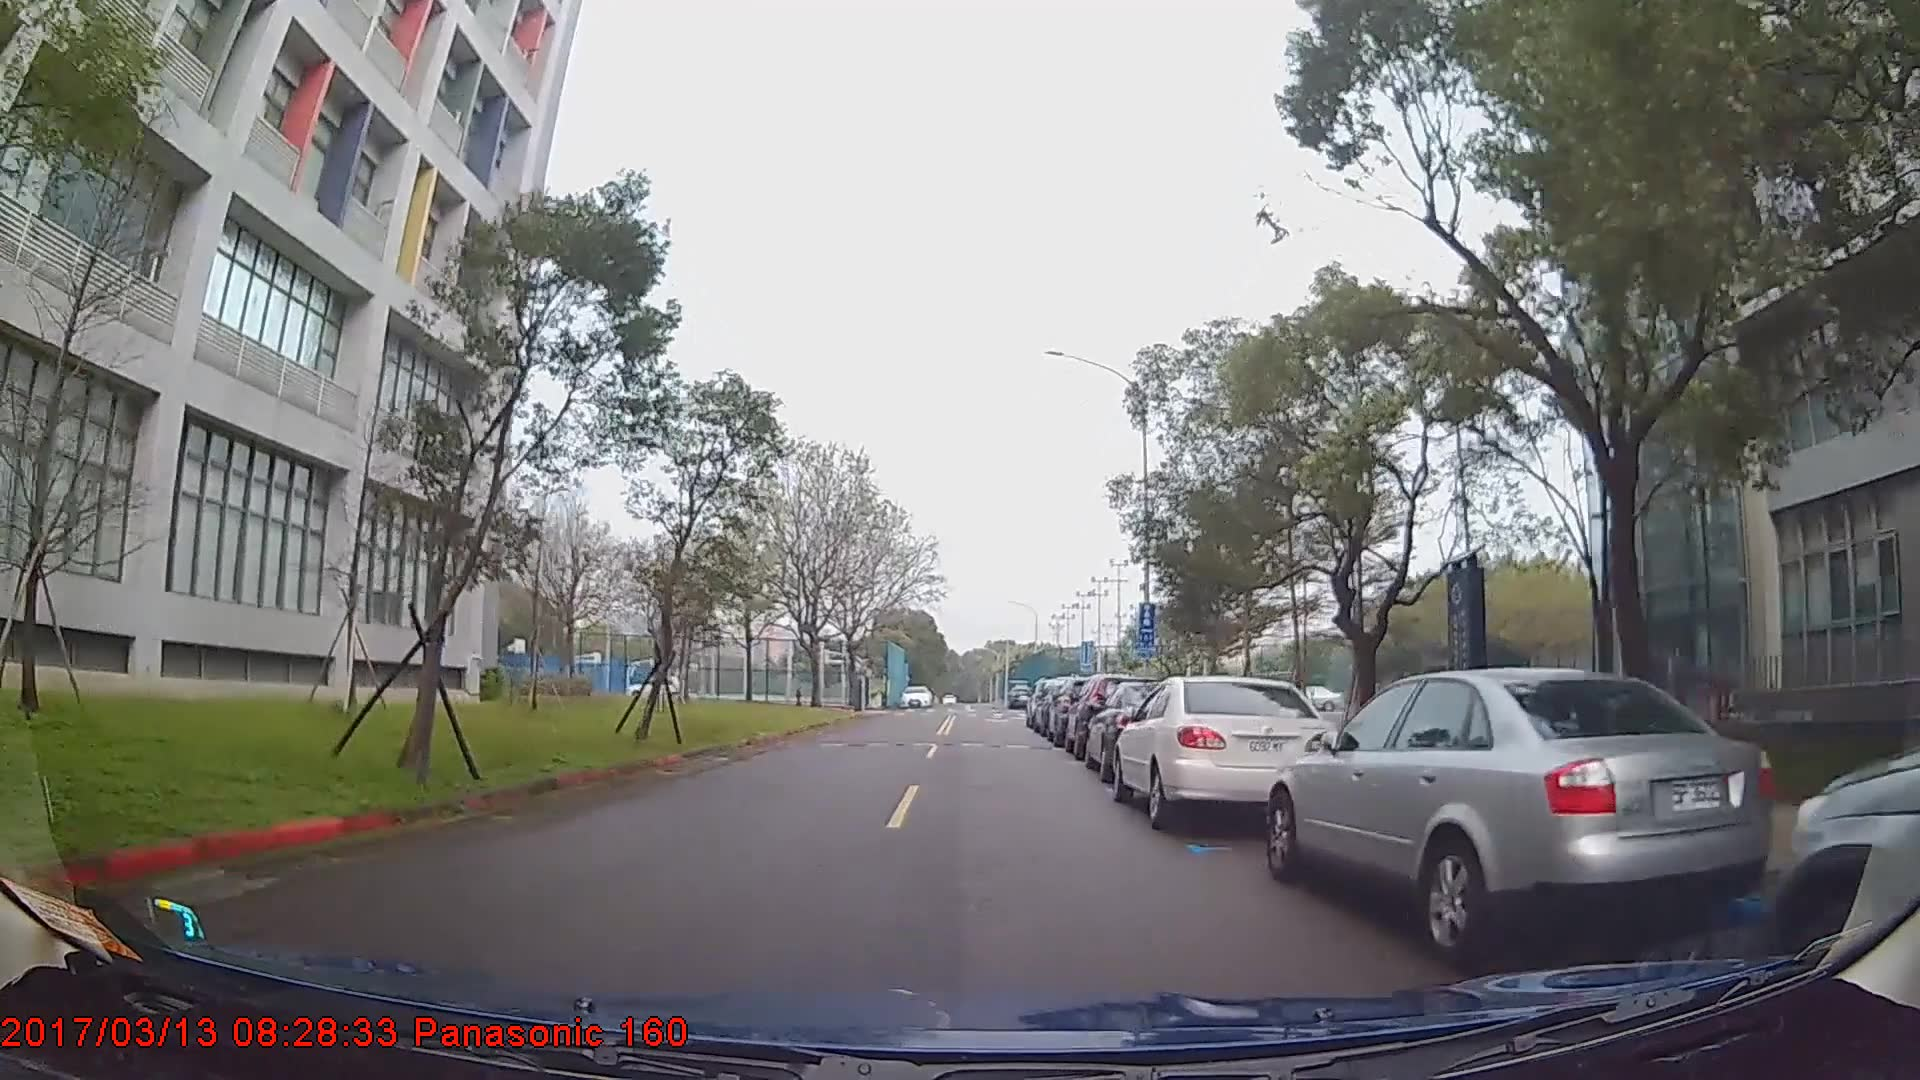vehicle: (1269, 665, 1776, 963), (1112, 673, 1345, 833), (899, 684, 931, 708)
